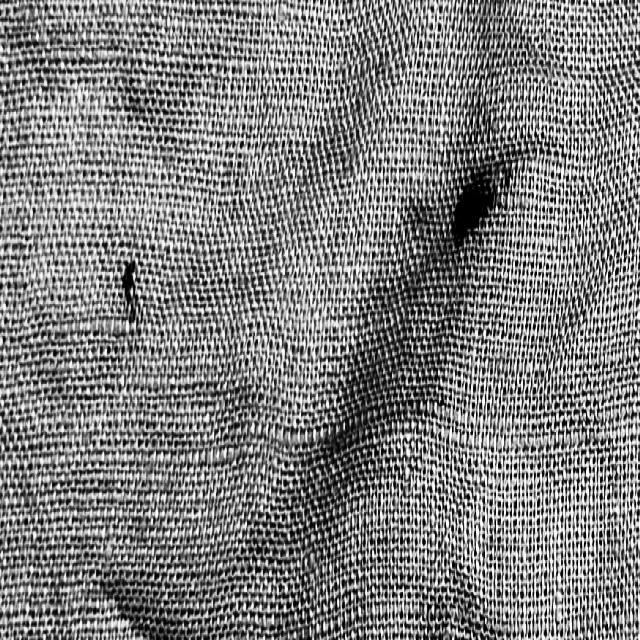Color_defect: (438, 158, 516, 250), (118, 249, 148, 334)
